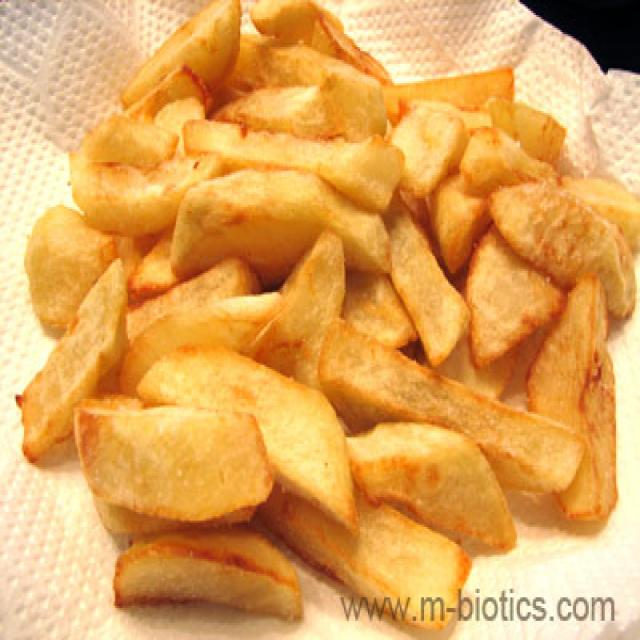炸货点心: (19, 4, 632, 640)
